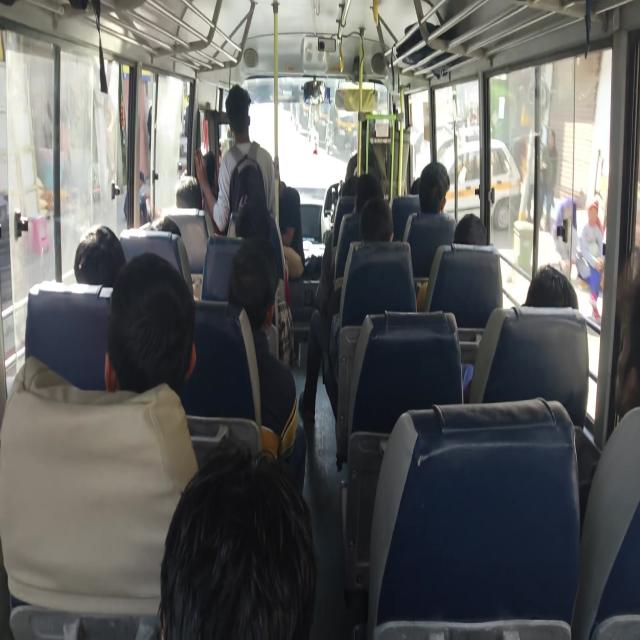person: (162, 487, 379, 640), (226, 52, 275, 262), (115, 269, 186, 397), (590, 293, 640, 454), (516, 262, 598, 355), (220, 239, 271, 324), (83, 220, 135, 289), (363, 200, 409, 258), (352, 174, 396, 222), (419, 151, 449, 215), (457, 210, 490, 265), (231, 204, 269, 251), (242, 166, 274, 220), (154, 212, 194, 250), (180, 172, 206, 218), (195, 156, 225, 192), (406, 170, 426, 199)
